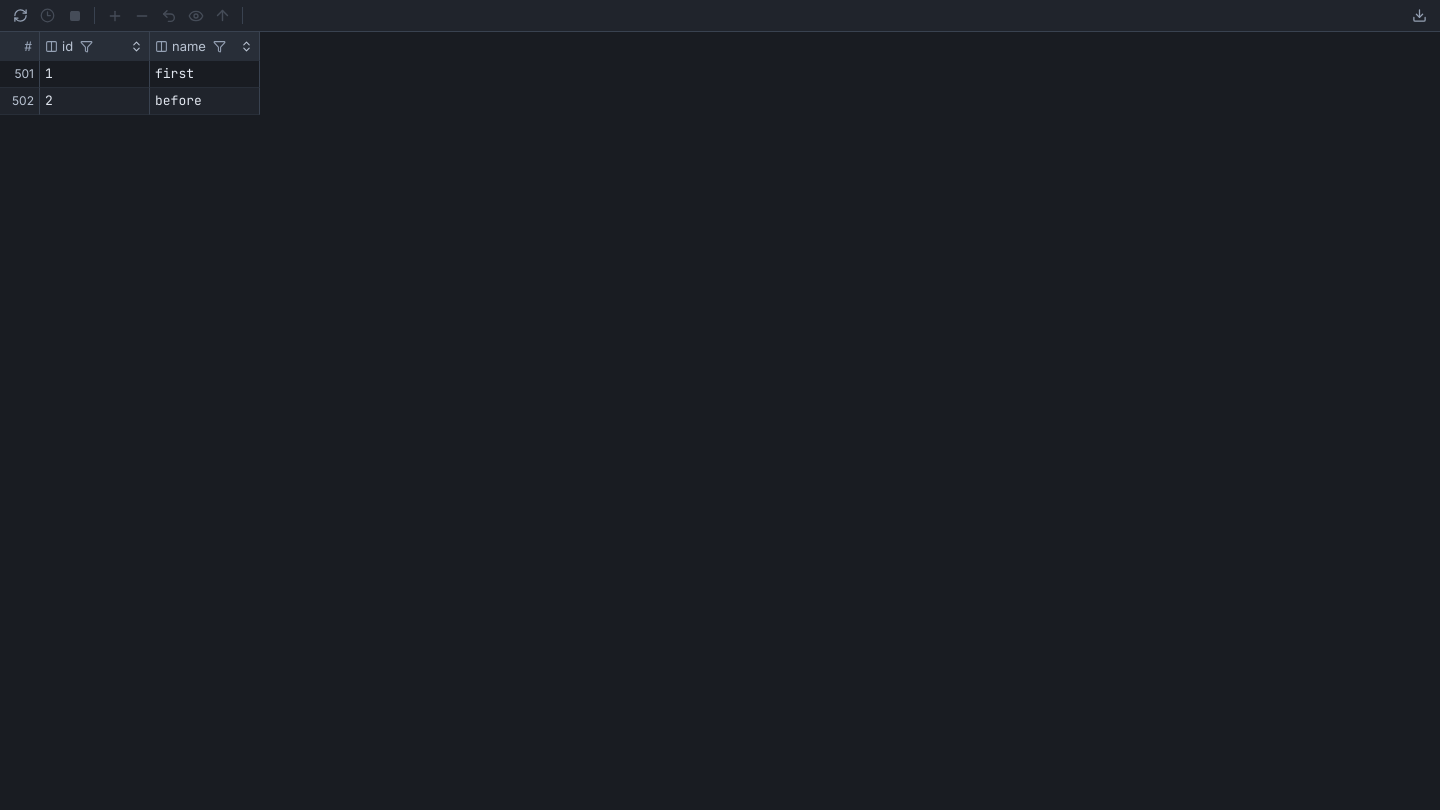
it: stages the original row index, previews before applying and refreshes once
This screenshot has width=1440, height=810.
Later steps or results of the test are not shown.
Double-click the text "before": (205, 102) [150,88,260,115]
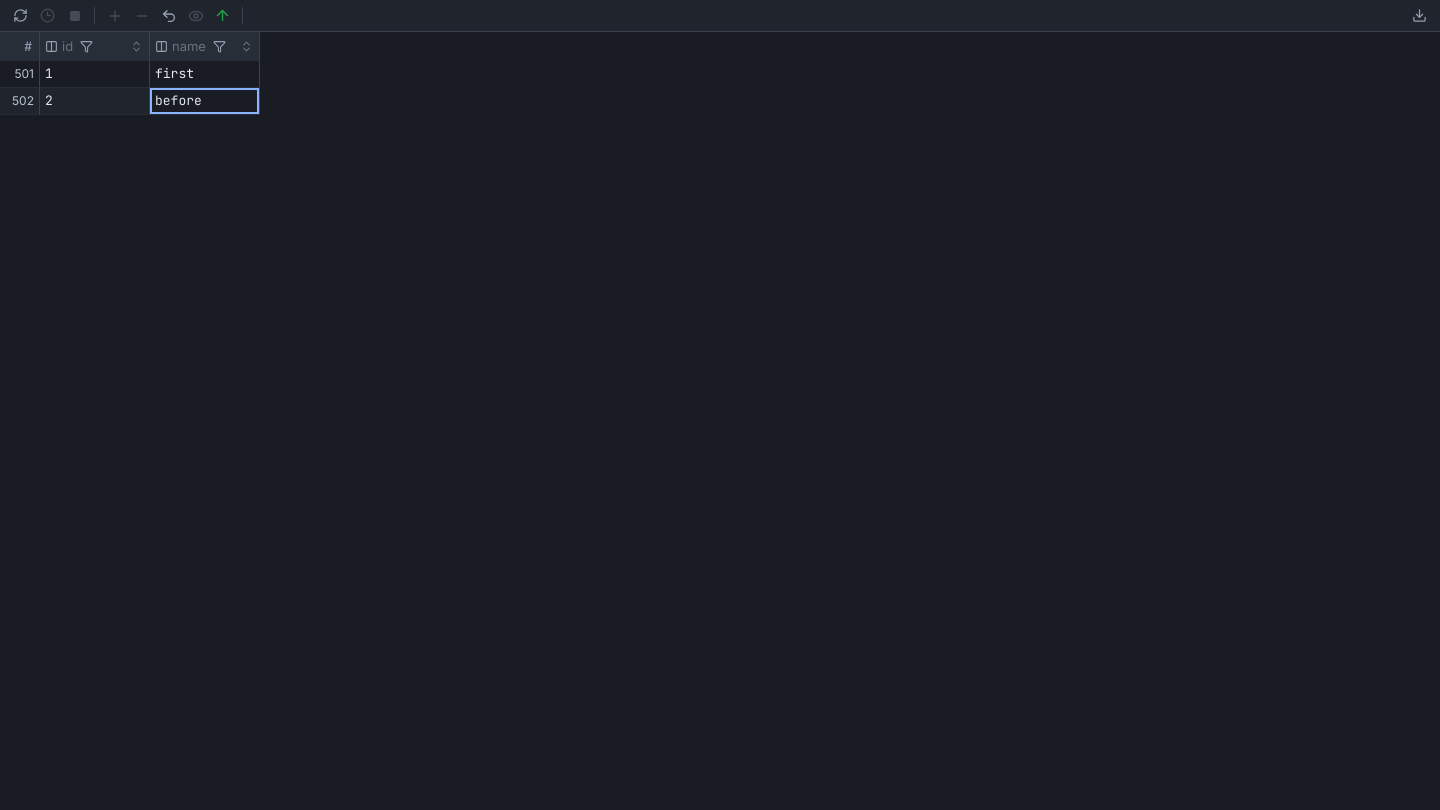
Replace the text in the text box named "Cell value" with "after": (204, 101) [150,88,259,114]
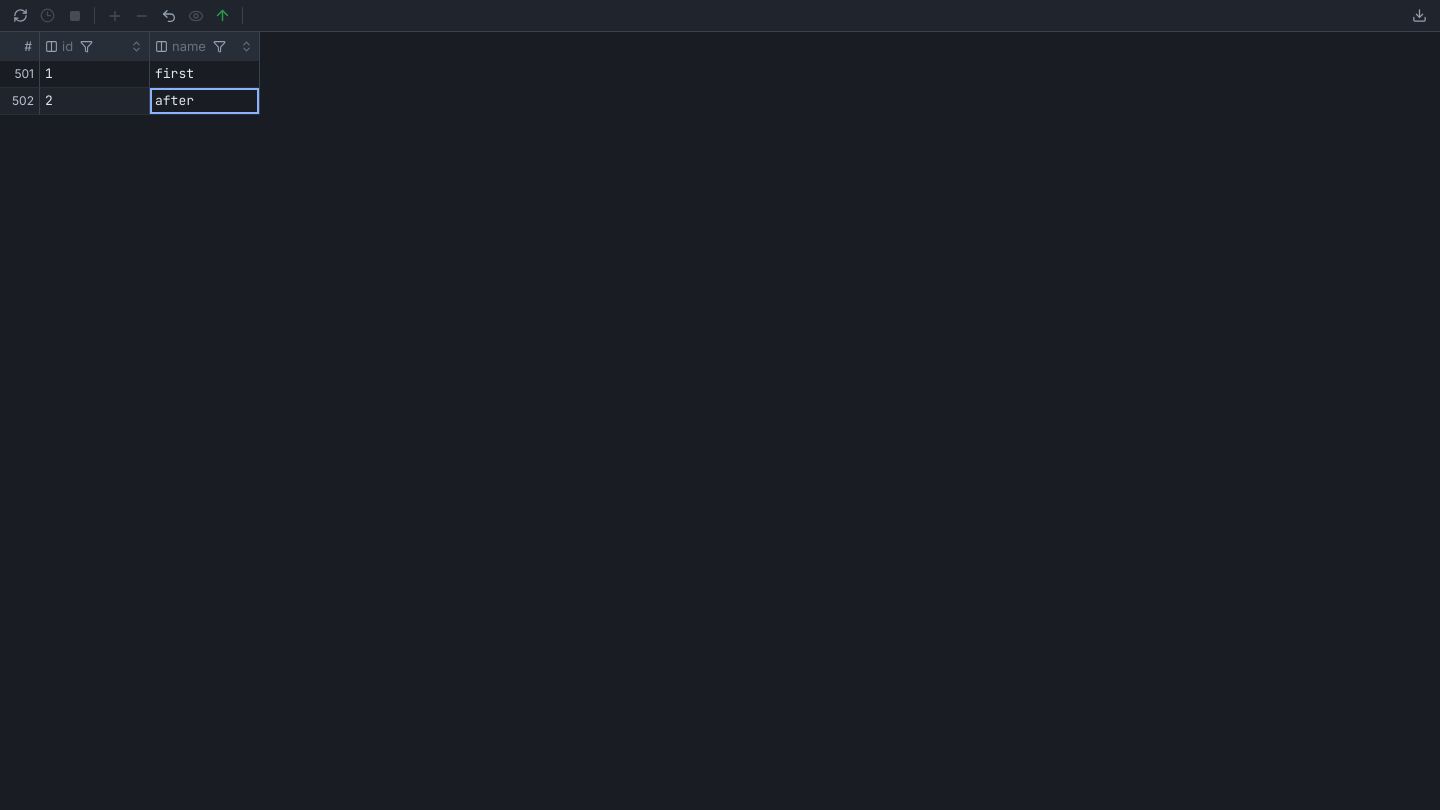
Press Enter in the text box named "Cell value", box [150,88,259,114]
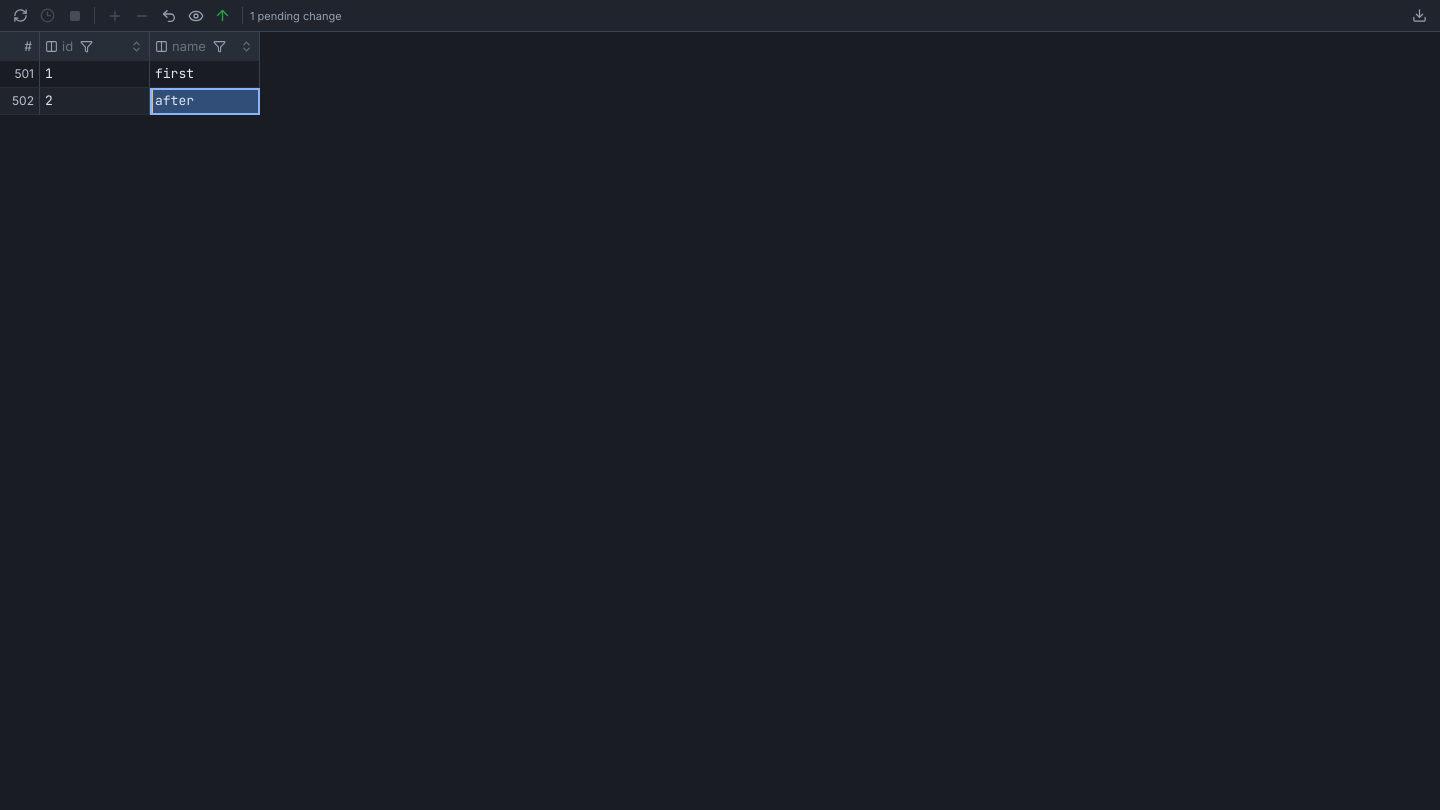
Now the text "before" has class "edited-cell", box [150,88,260,115]
Click the button named "Preview pending changes": (196, 16) [183,2,208,30]
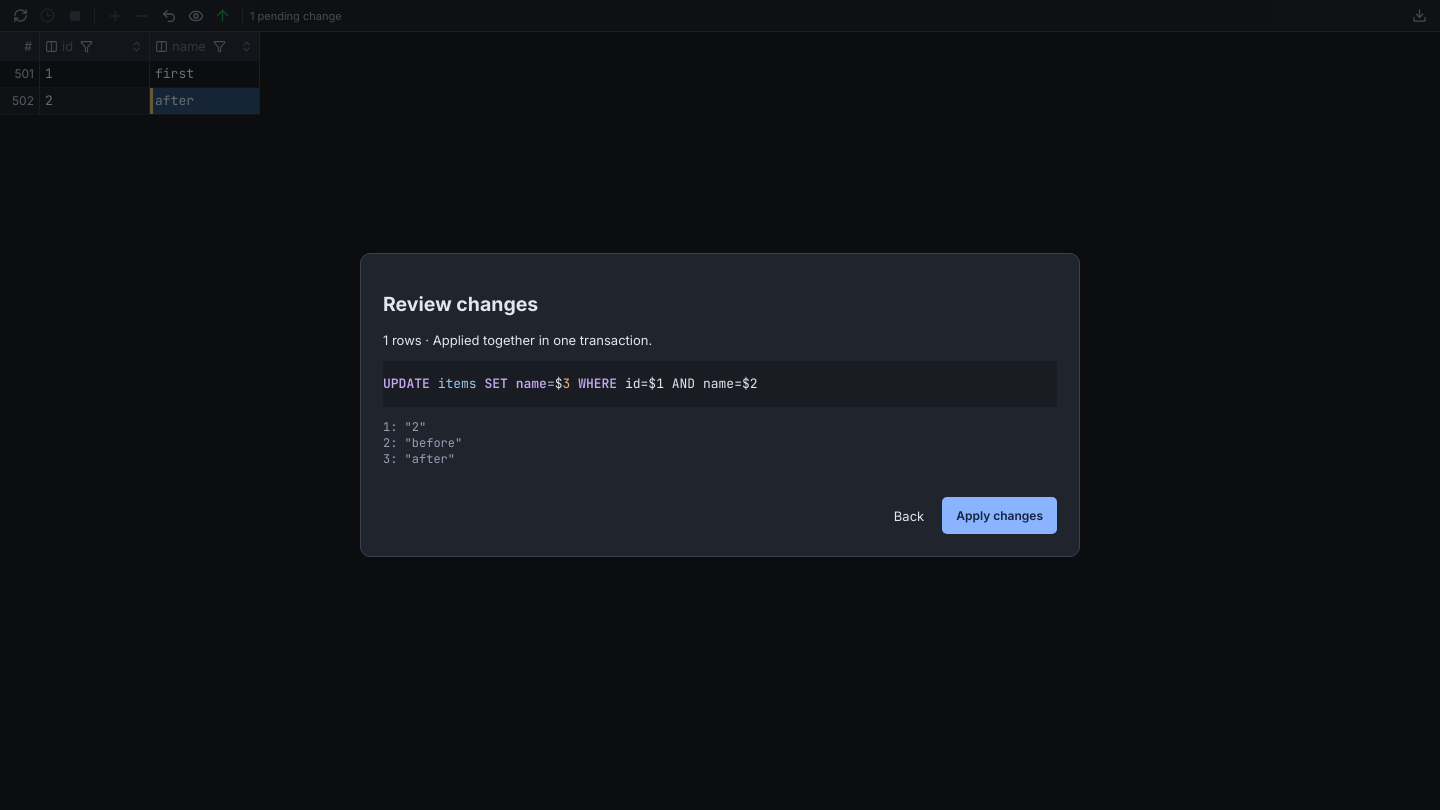
Now the dialog "Review changes" is shown, box [360,253,1080,557]
